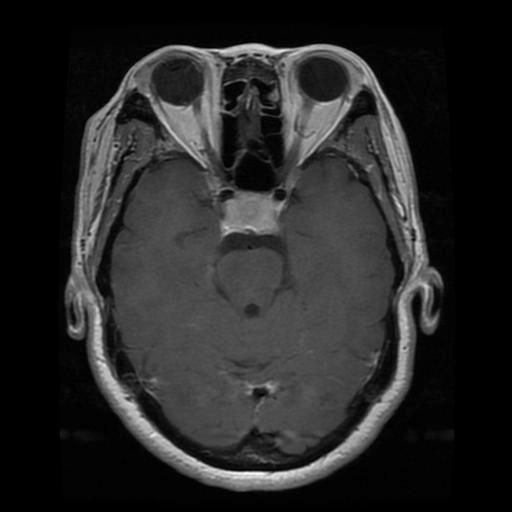Tumour-Pituitary: (208, 184, 299, 246)
